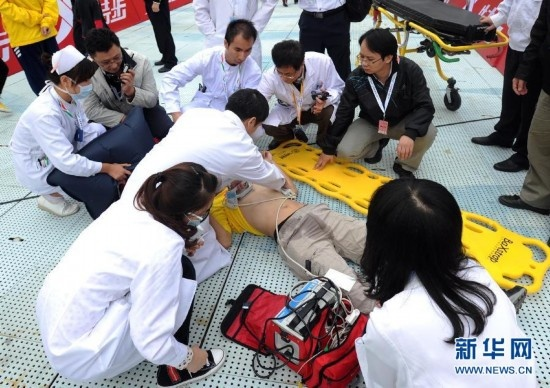falling: (214, 163, 380, 300)
